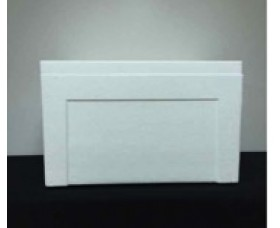Foam Box: (36, 54, 244, 189)
